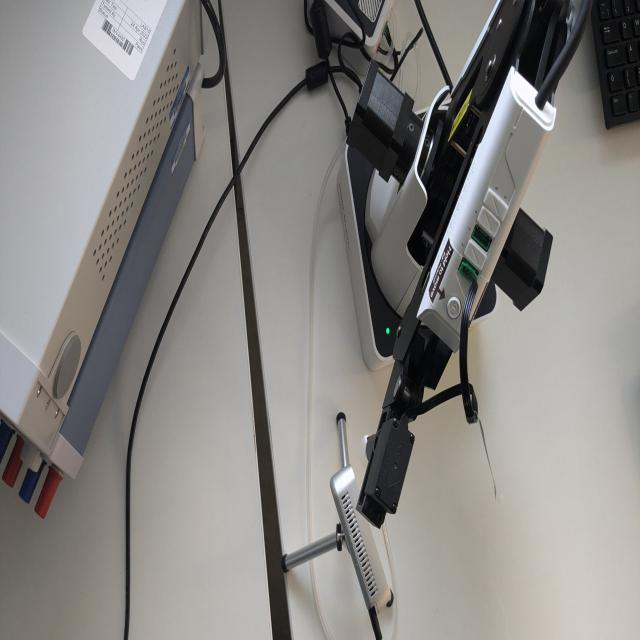Robot-end-effector-HF8z: (353, 414, 418, 532)
